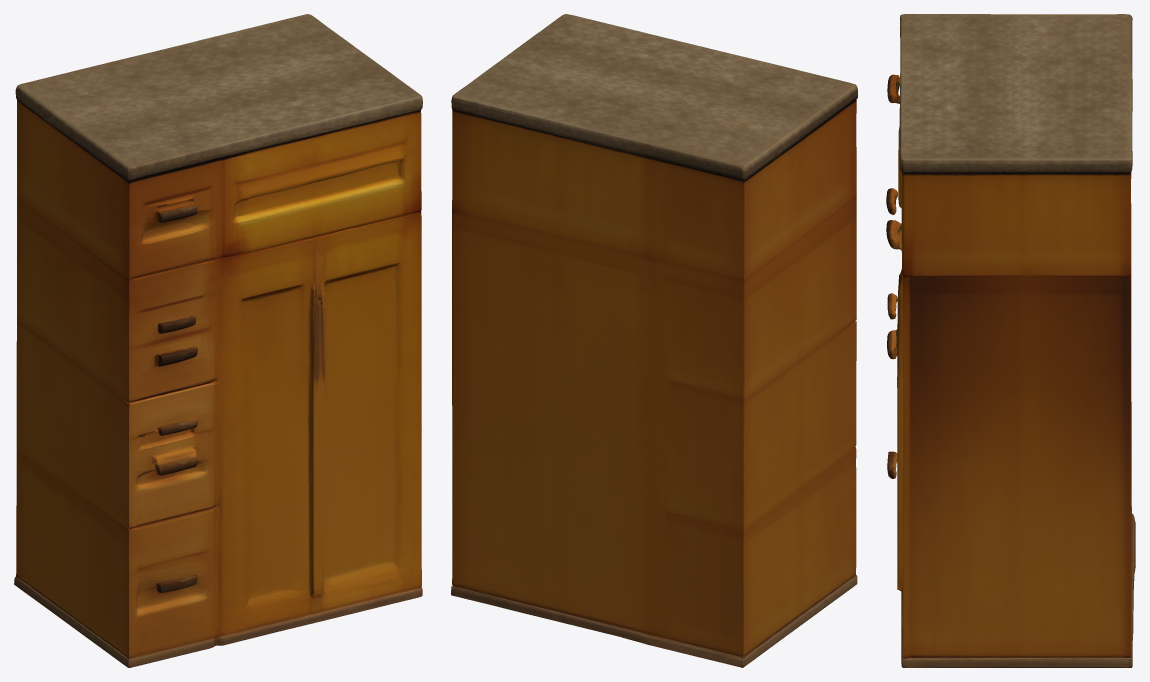
3 renders of one model, left to right at view 1: azimuth 30°, elevation 25°; view 2: azimuth 150°, elevation 25°; view 3: azimuth 270°, elevation 25°, orthographic.
Visible parts, largest first — view 1: world; view 2: world; view 3: world.
Part boxes in pixels (bbox=[...]): world: bbox=[14, 14, 422, 667]; world: bbox=[451, 14, 857, 667]; world: bbox=[886, 14, 1135, 667].
Size of the model in its own units: 0.62 by 1 by 0.4448.
1 material, 1 textured.
